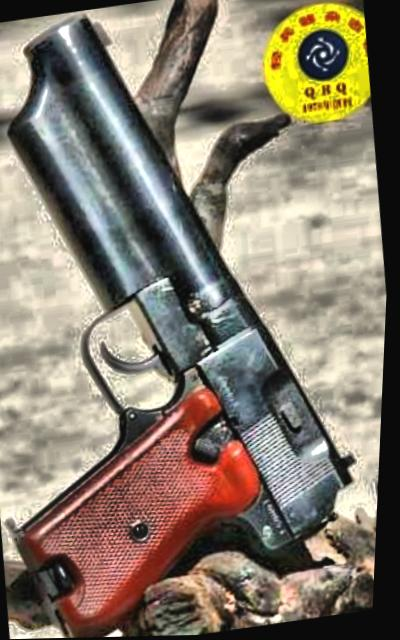pistol: (0, 0, 392, 640)
